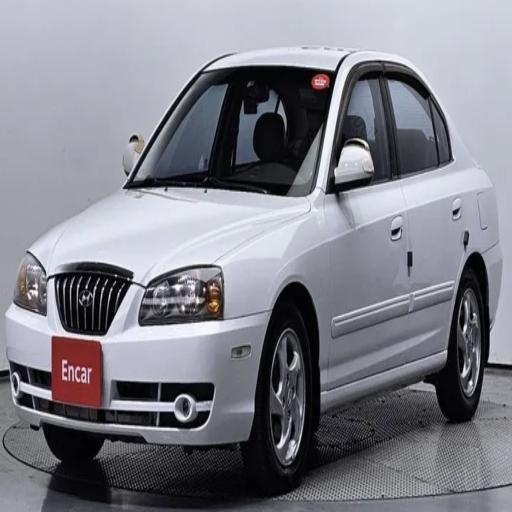normal: (19, 12, 504, 499)
